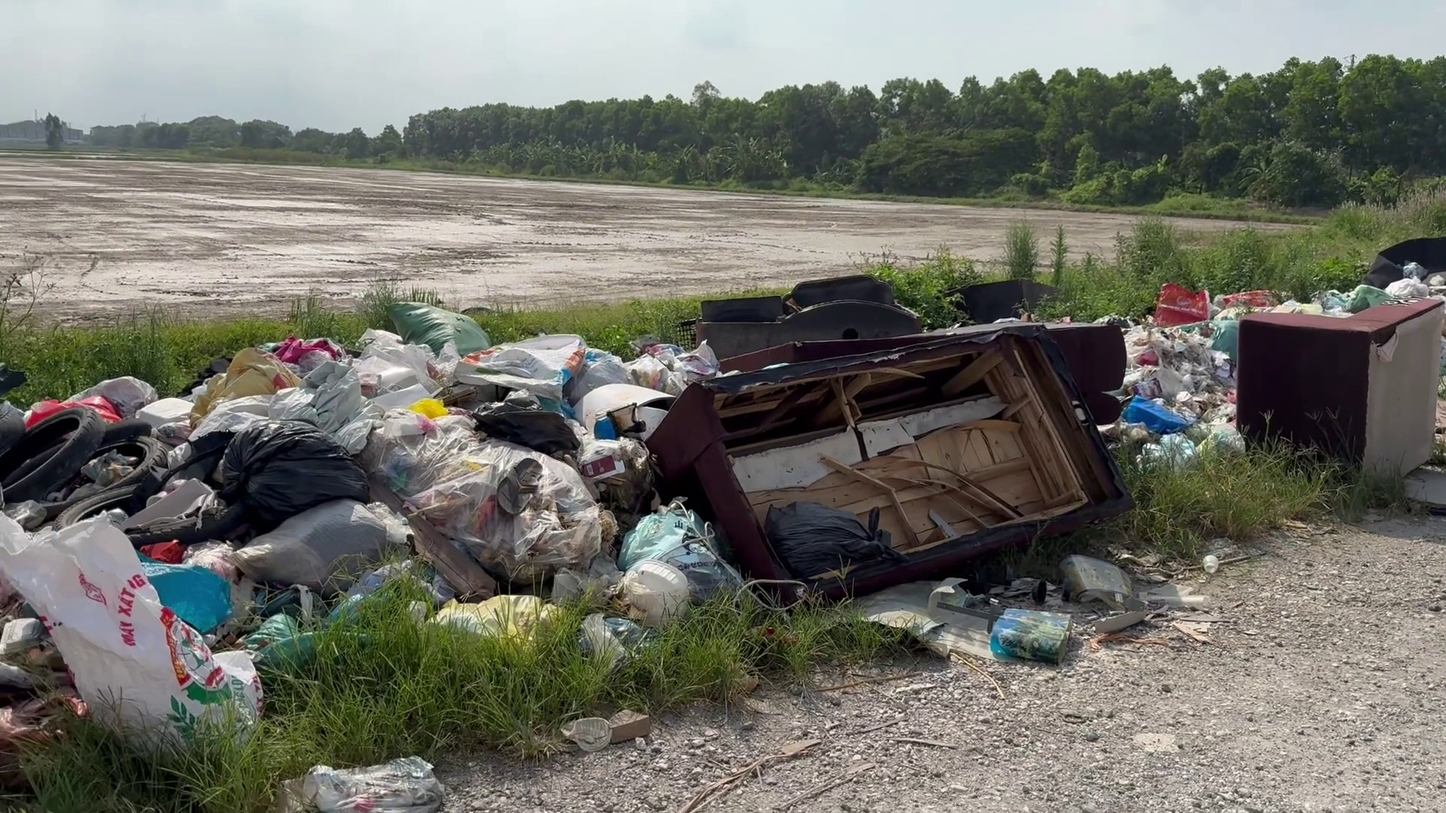garbage: (273, 748, 454, 813)
